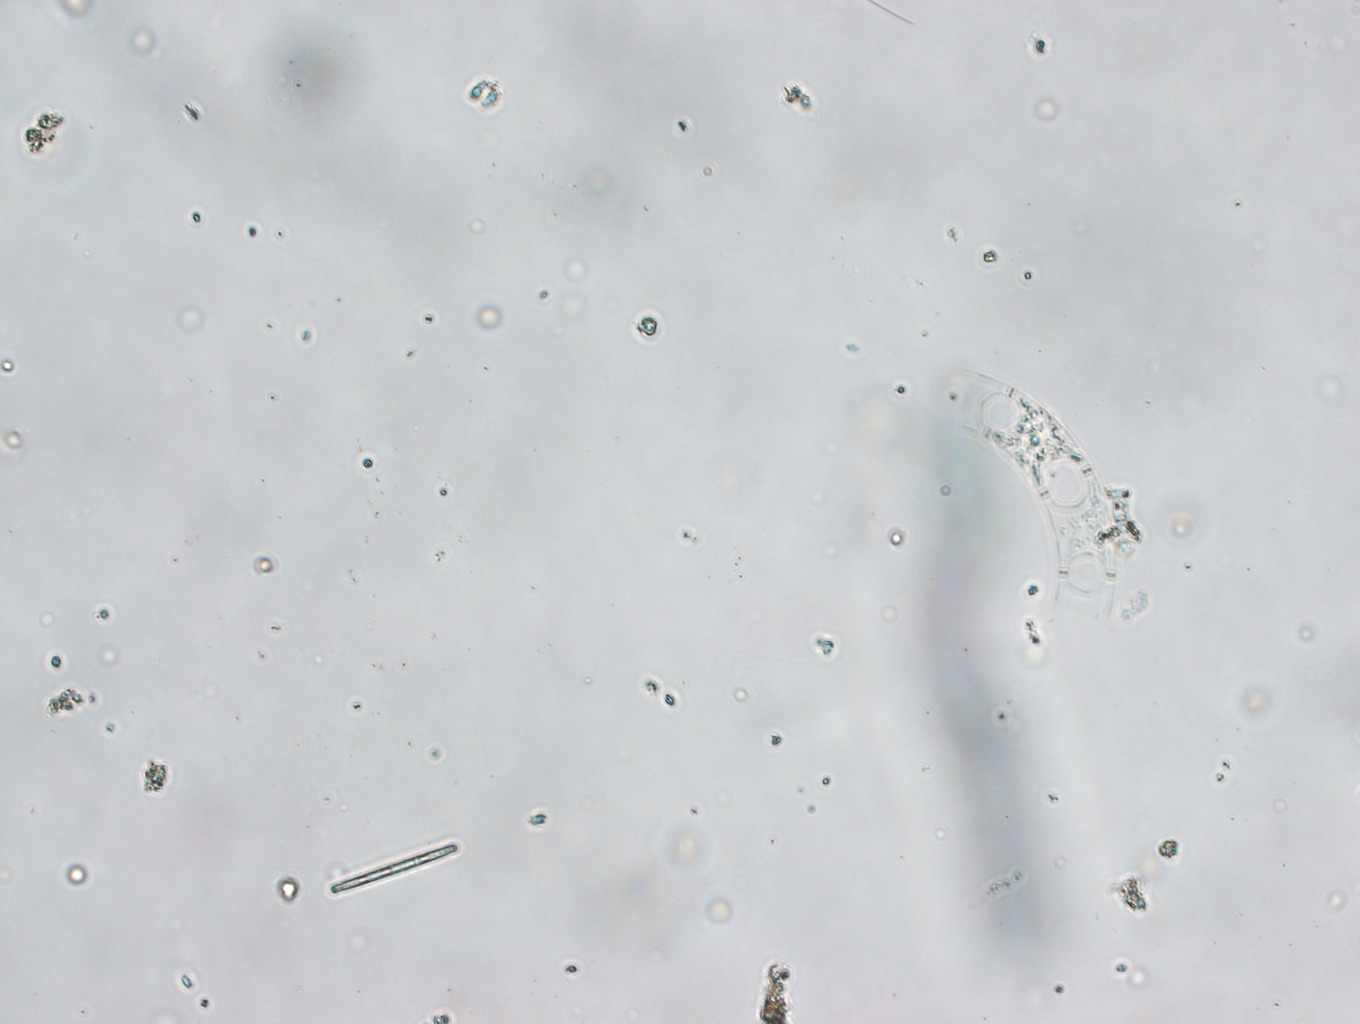eucampia: (955, 367, 1172, 642)
